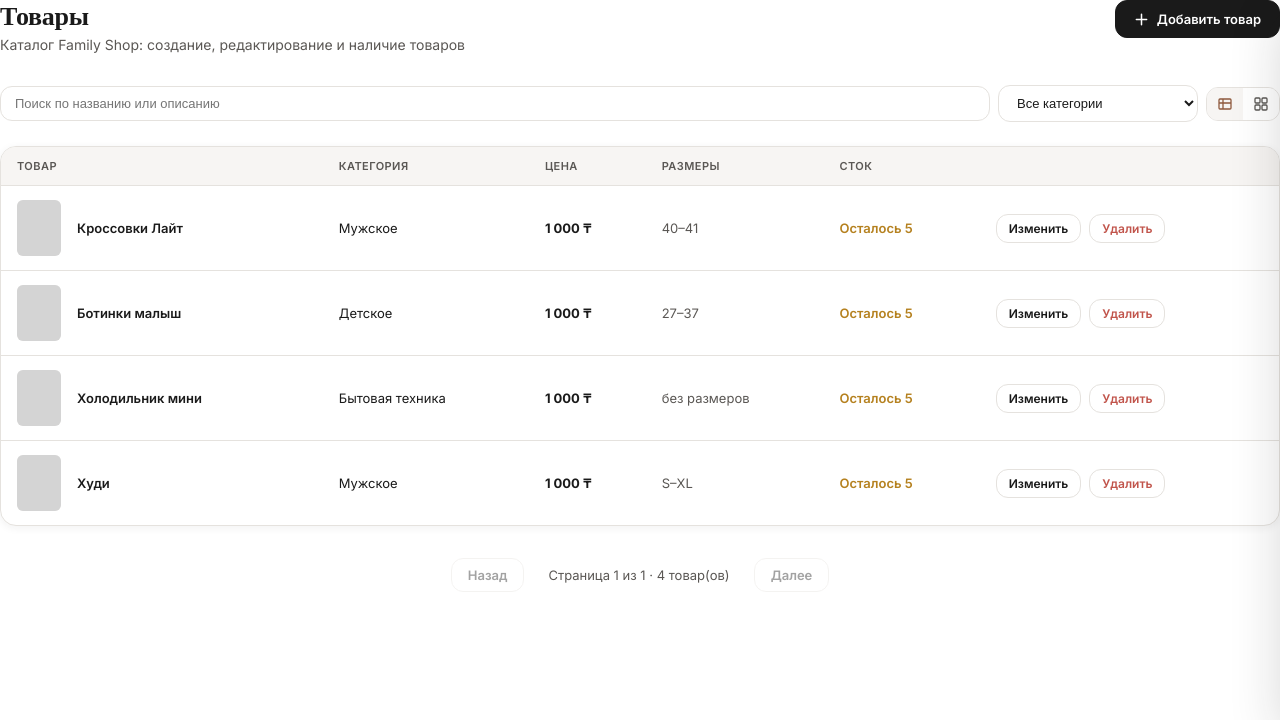
product form - sizes › changing the type resets the sizes to the whole new grid
The image size is (1280, 720).
Click the button "Изменить" in the row of "Кроссовки Лайт": (1038, 228) [996,214,1081,242]
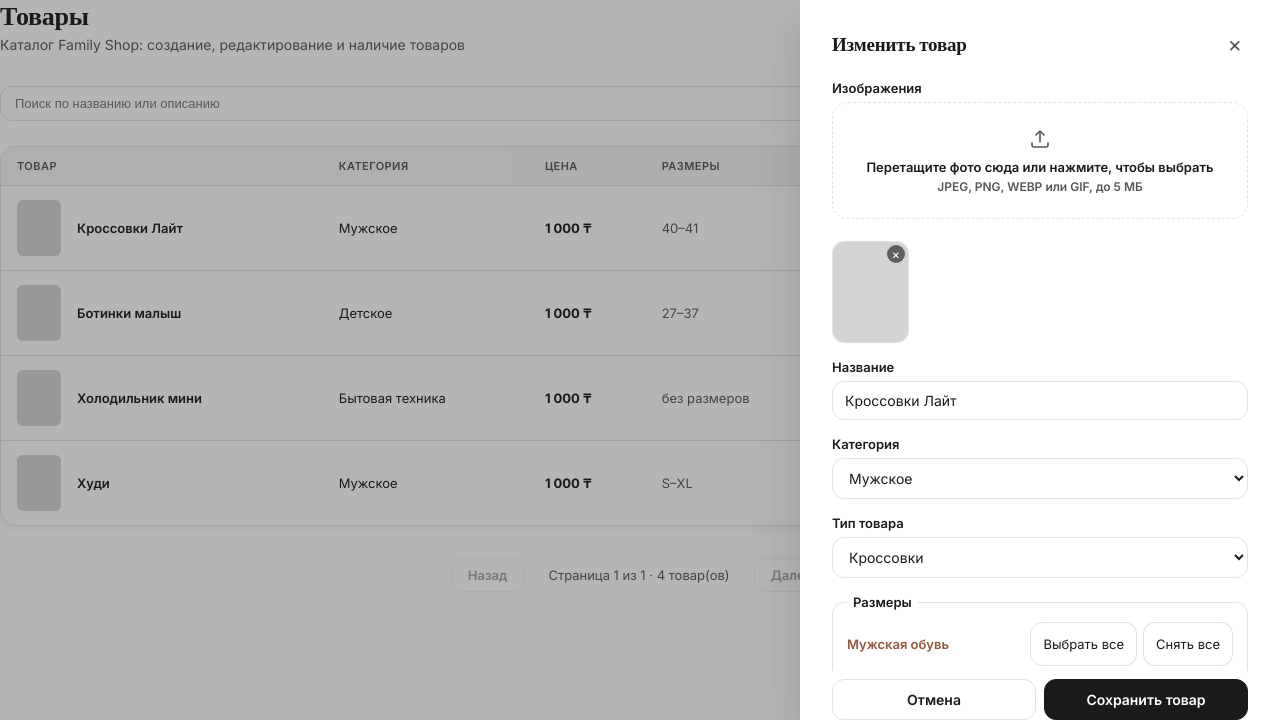
Select "Ботинки" in the dropdown labelled "Тип товара": (1040, 558) [832,537,1248,578]
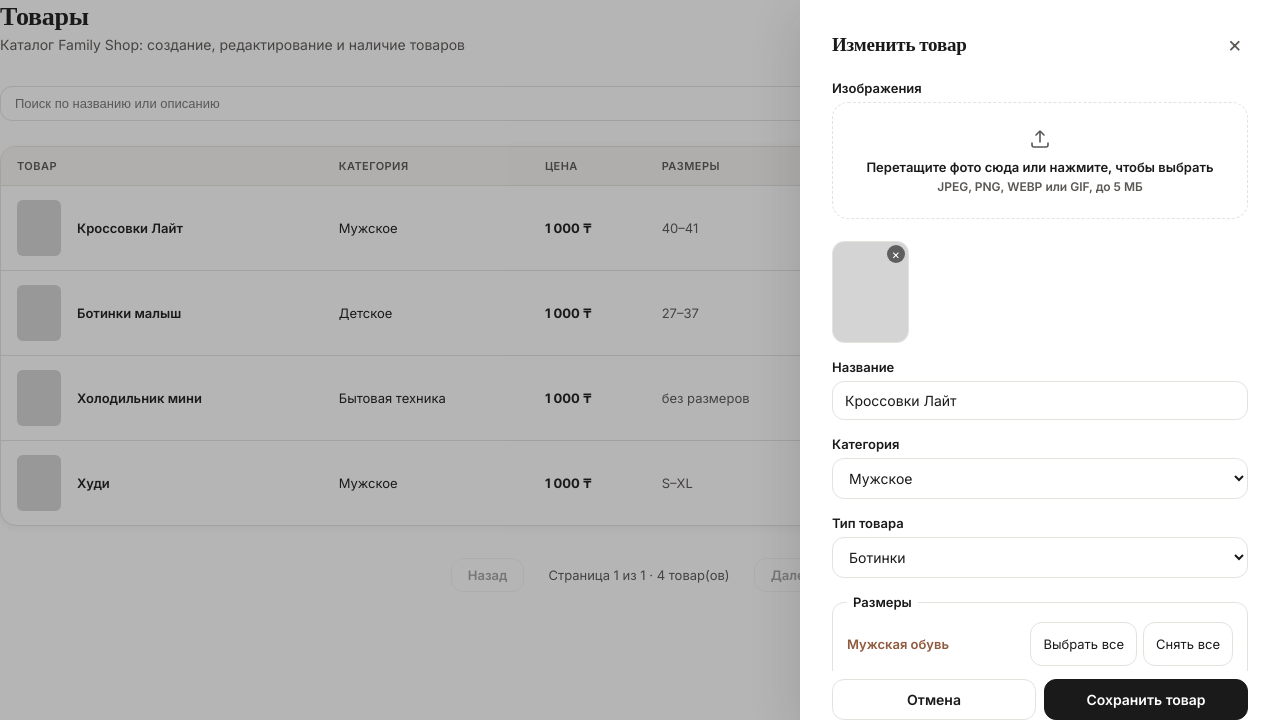
Select "Худи" in the dropdown labelled "Тип товара": (1040, 558) [832,537,1248,578]
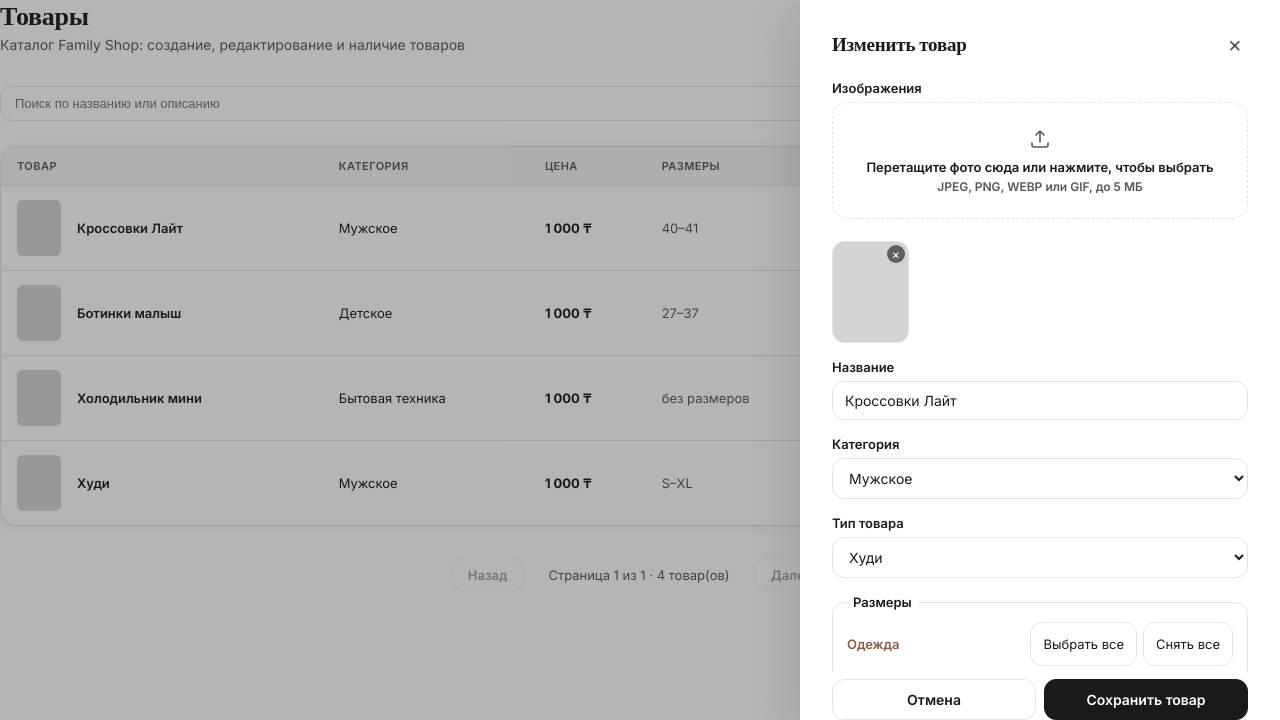
Select "Сумки" in the dropdown labelled "Тип товара": (1040, 558) [832,537,1248,578]
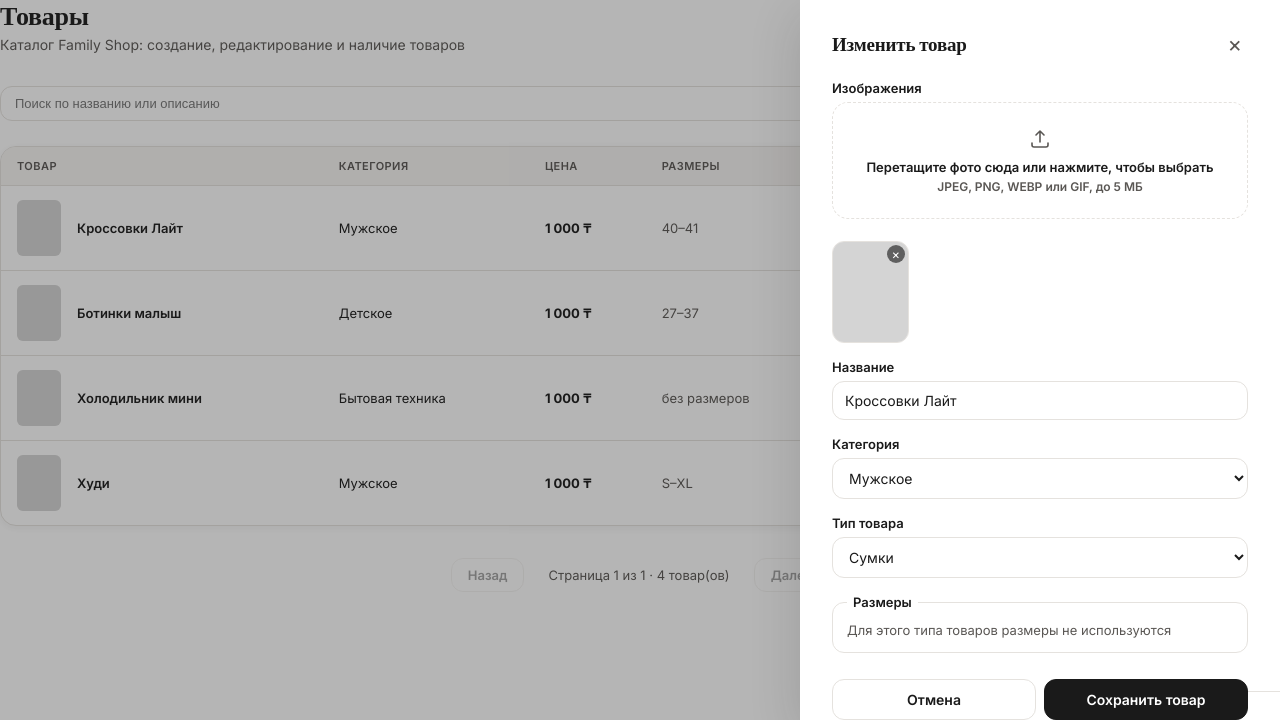
Result: the text "Для этого типа товаров размеры не используются" is shown at [847,622,1171,638]
